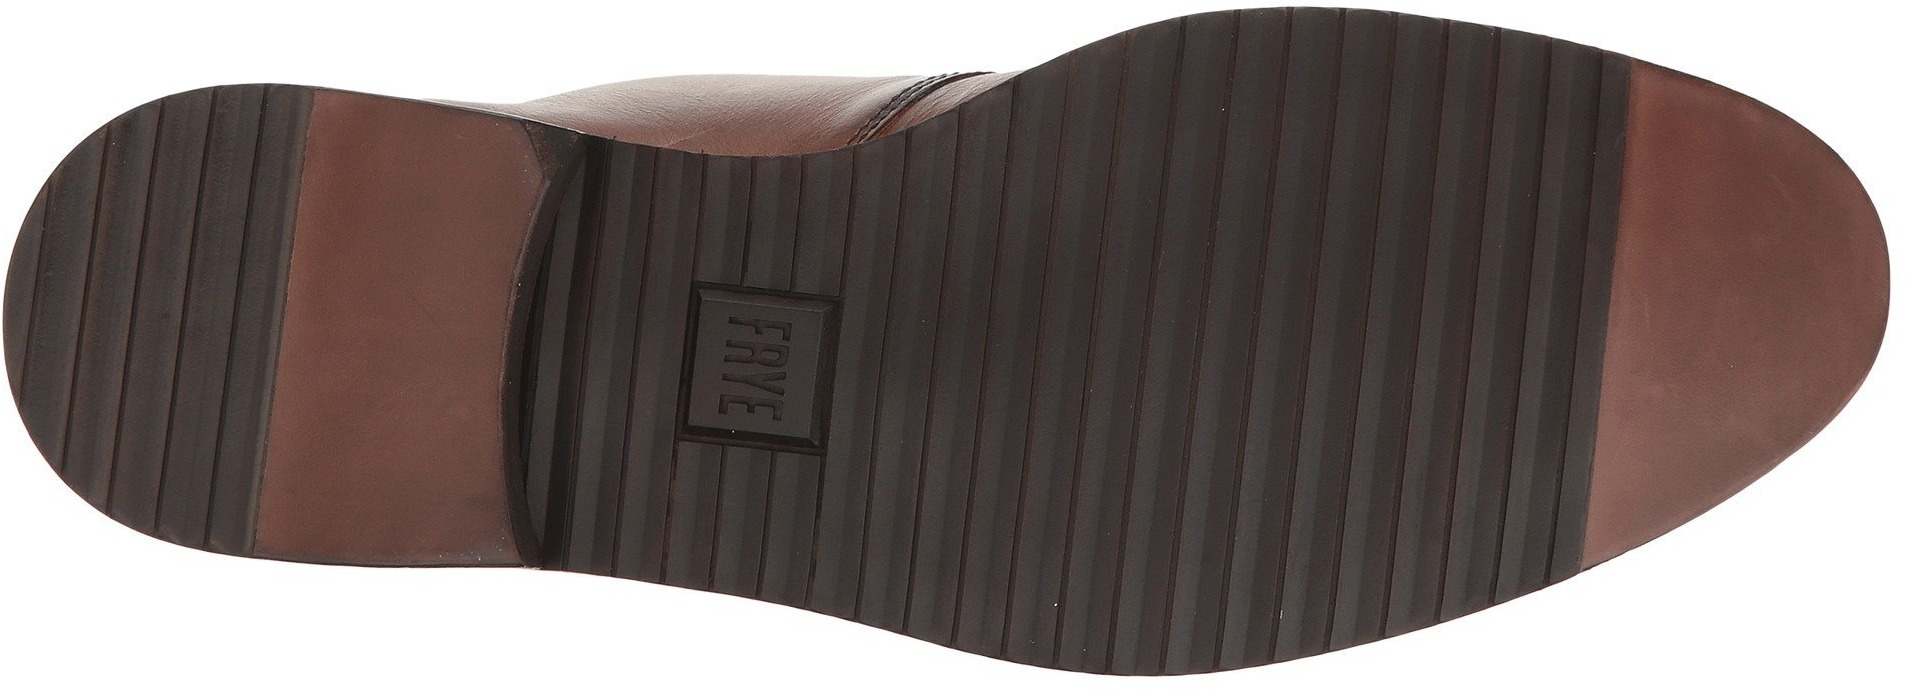other: (1632, 164, 1846, 384), (303, 203, 498, 398)
quad: (1135, 57, 1501, 381), (1141, 385, 1398, 634), (878, 381, 1135, 615), (881, 145, 1139, 377), (33, 207, 263, 439), (667, 270, 868, 466)
text: (704, 302, 825, 425)
